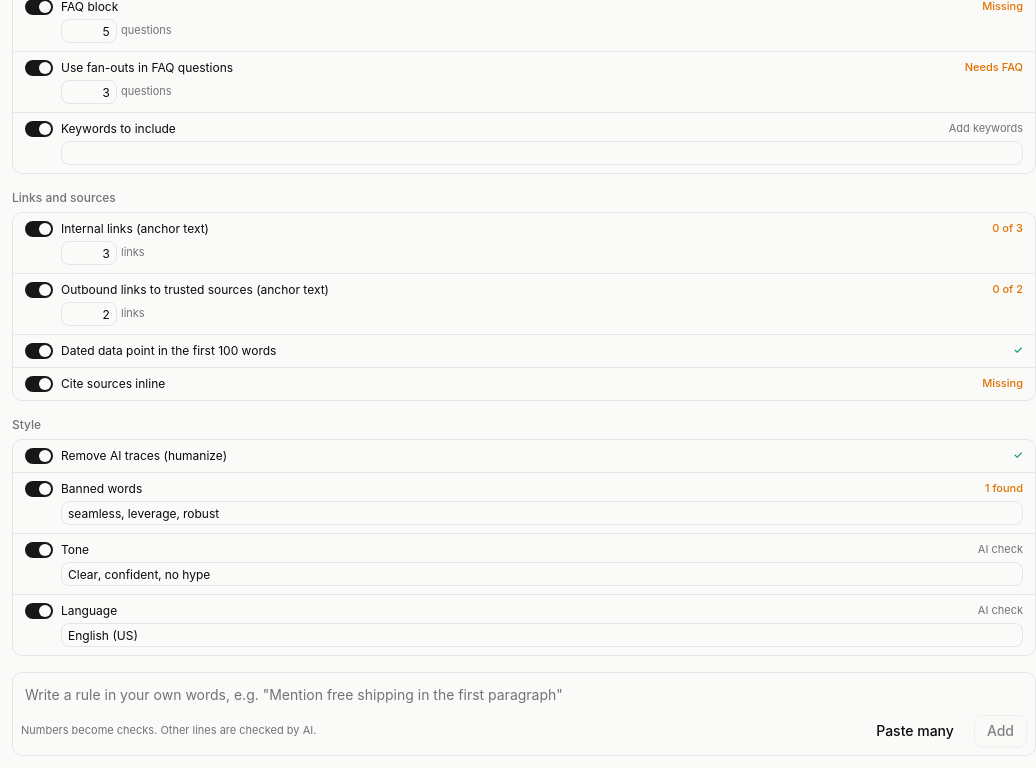
the Rules tab › turns a rule off, and shows it off
(page scrolled)
Click the switch named "Cite sources inline: on or off" at (39, 384), box x1=25 y1=376 x2=53 y2=392
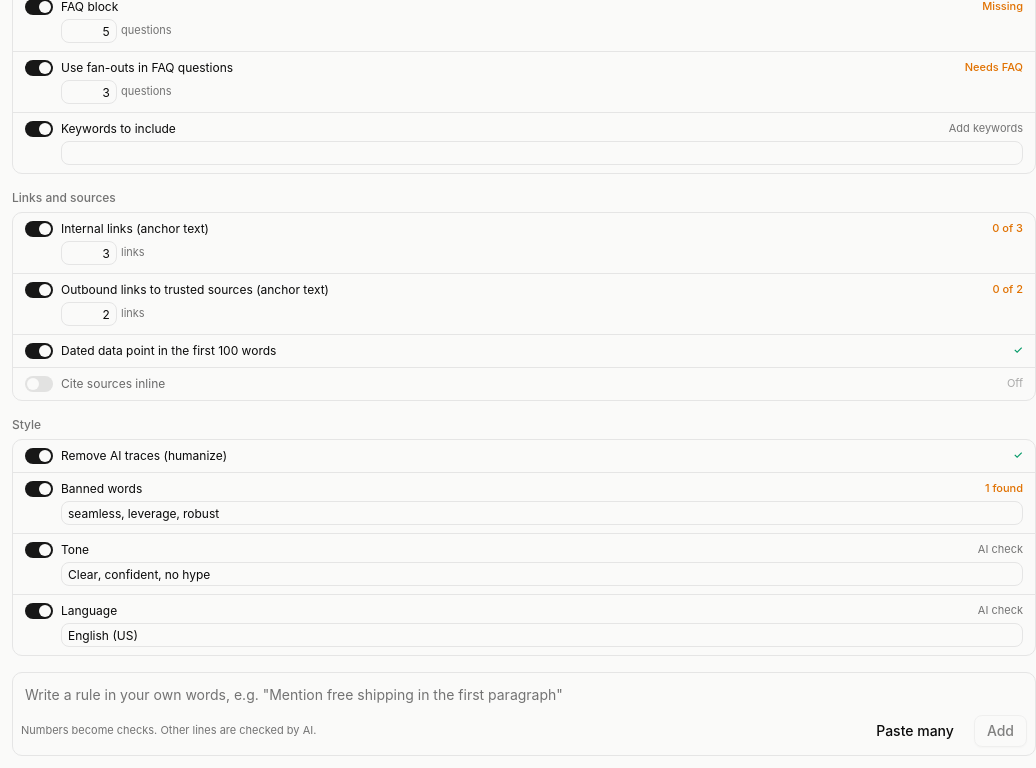
Expected: the list item "Cite sources inline Off" is shown, x1=25 y1=376 x2=1023 y2=392
